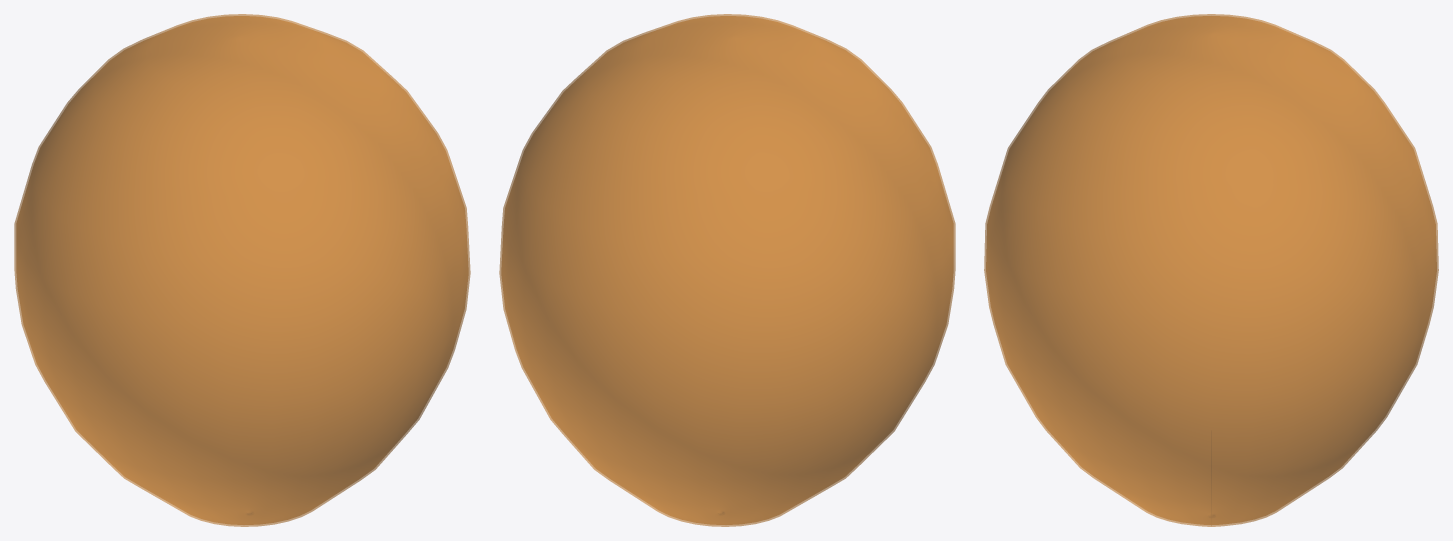
File: Balloons.fbx
3 renders of one model, left to right at view 1: azimuth 30°, elevation 25°; view 2: azimuth 150°, elevation 25°; view 3: azimuth 270°, elevation 25°, orthographic.
Parts seen in each view (by area): view 1: Cylinder; view 2: Cylinder; view 3: Cylinder.
Part boxes in pixels (x1,y1,x2,y2): Cylinder: (14, 14, 470, 526); Cylinder: (499, 14, 955, 526); Cylinder: (984, 14, 1438, 526).
Bounding box in the file's own units: 68.24 × 80 × 68.25.
